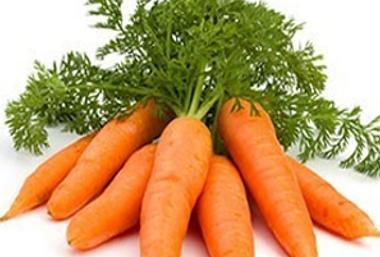carrot: (11, 86, 376, 254), (62, 97, 316, 257)
